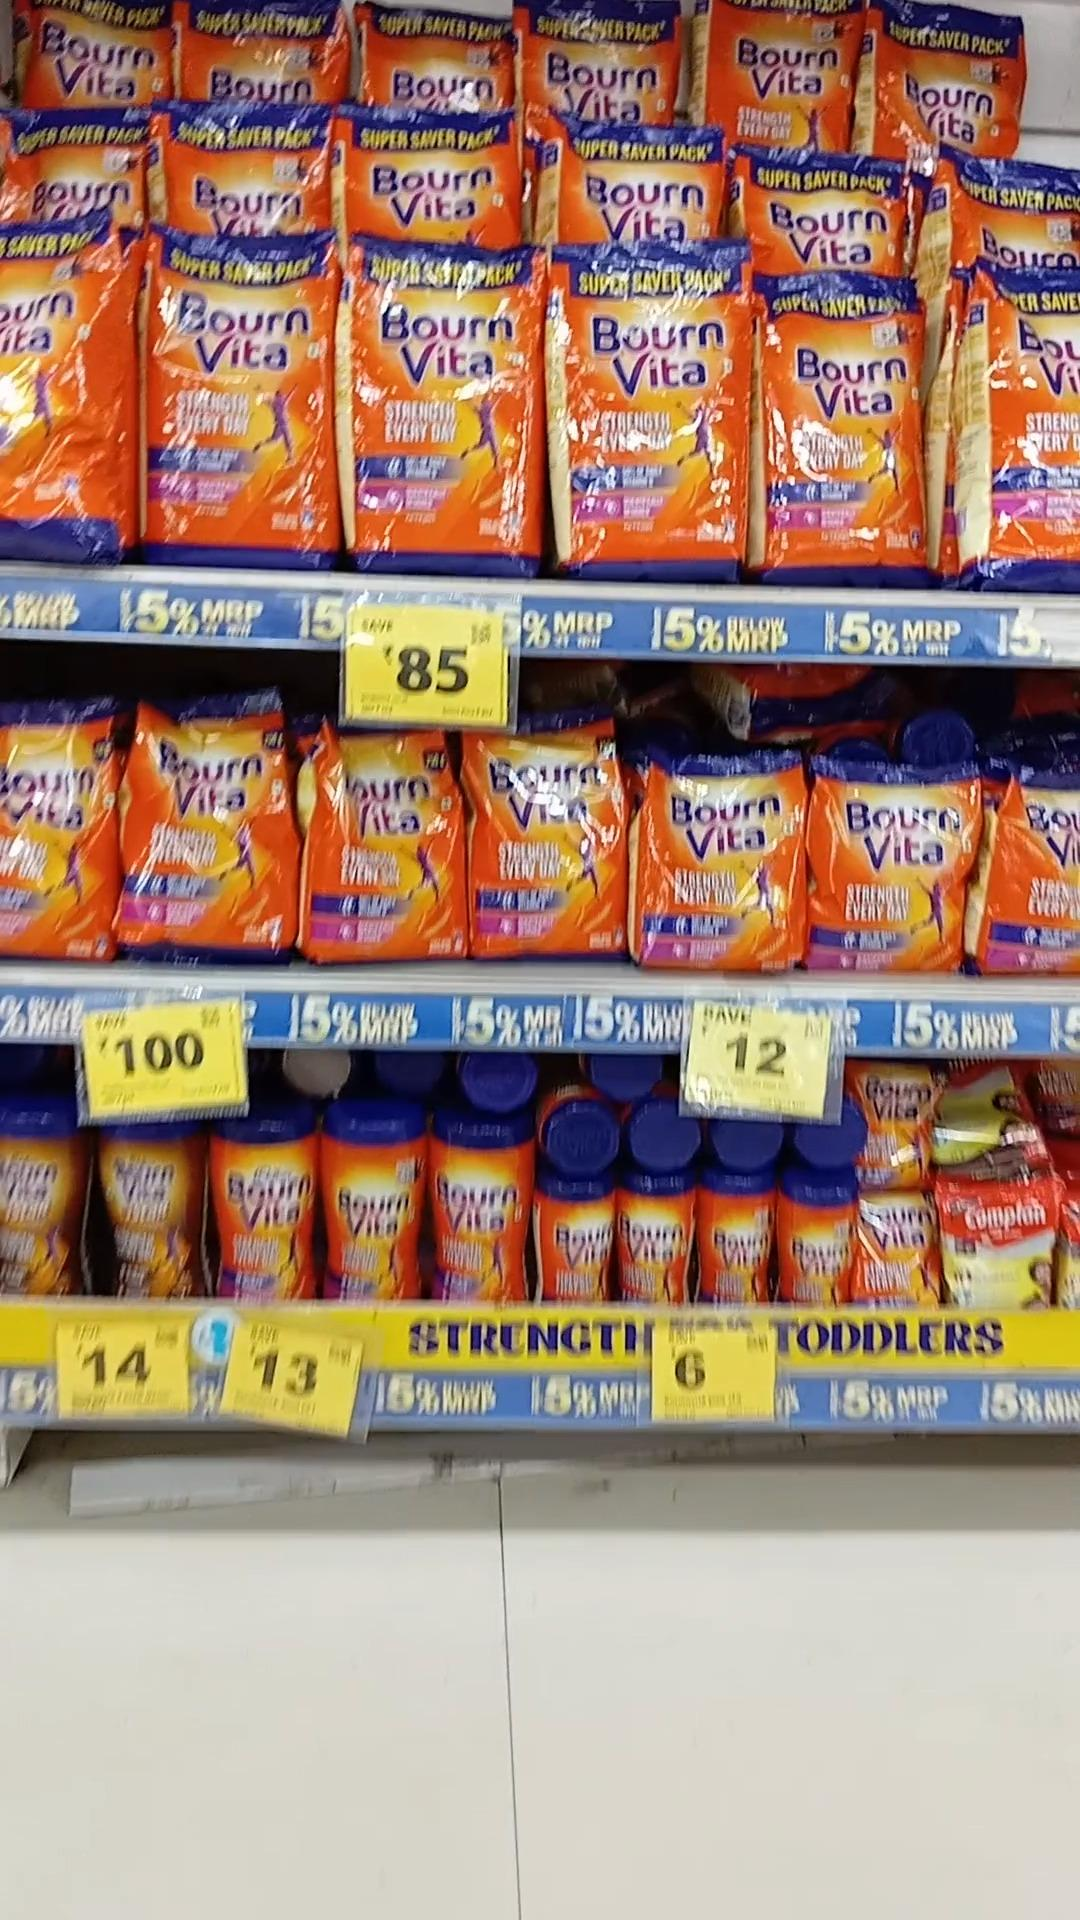BOURN_VITA_1_KG_POUCH: (547, 237, 746, 576), (344, 236, 539, 572), (146, 227, 332, 560), (760, 269, 932, 579), (870, 0, 1029, 157)
BOURN_VITA_200_G_JAR: (617, 1174, 695, 1307), (537, 1176, 612, 1303), (703, 1171, 770, 1307), (781, 1167, 847, 1303)
BOURN_VITA_500_G_JAR: (430, 1121, 530, 1300), (322, 1116, 419, 1299), (215, 1121, 315, 1299)
BOURN_VITA_500_G_POUCH: (634, 754, 798, 978), (812, 756, 968, 978)
BOURN_VITA_750_G_POUCH: (135, 696, 290, 963), (299, 738, 462, 961), (471, 735, 624, 960), (0, 700, 113, 955)
BOURN_VITA_75_G_POUCH: (857, 1187, 935, 1307)
BOURN_VITA_FIVE_STAR_MAGIC_500_G_JAR: (99, 1131, 207, 1292), (0, 1114, 88, 1295)
